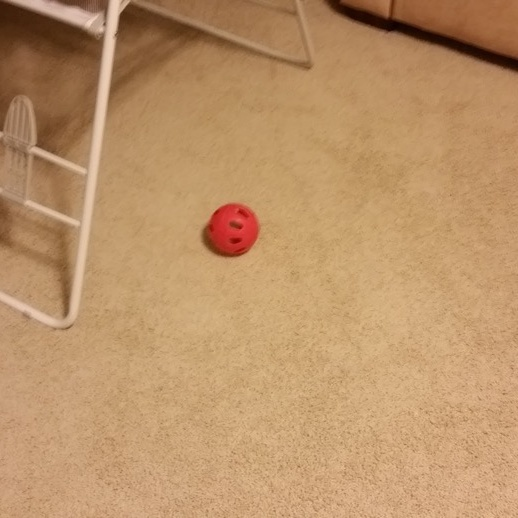ball: (203, 198, 262, 258)
